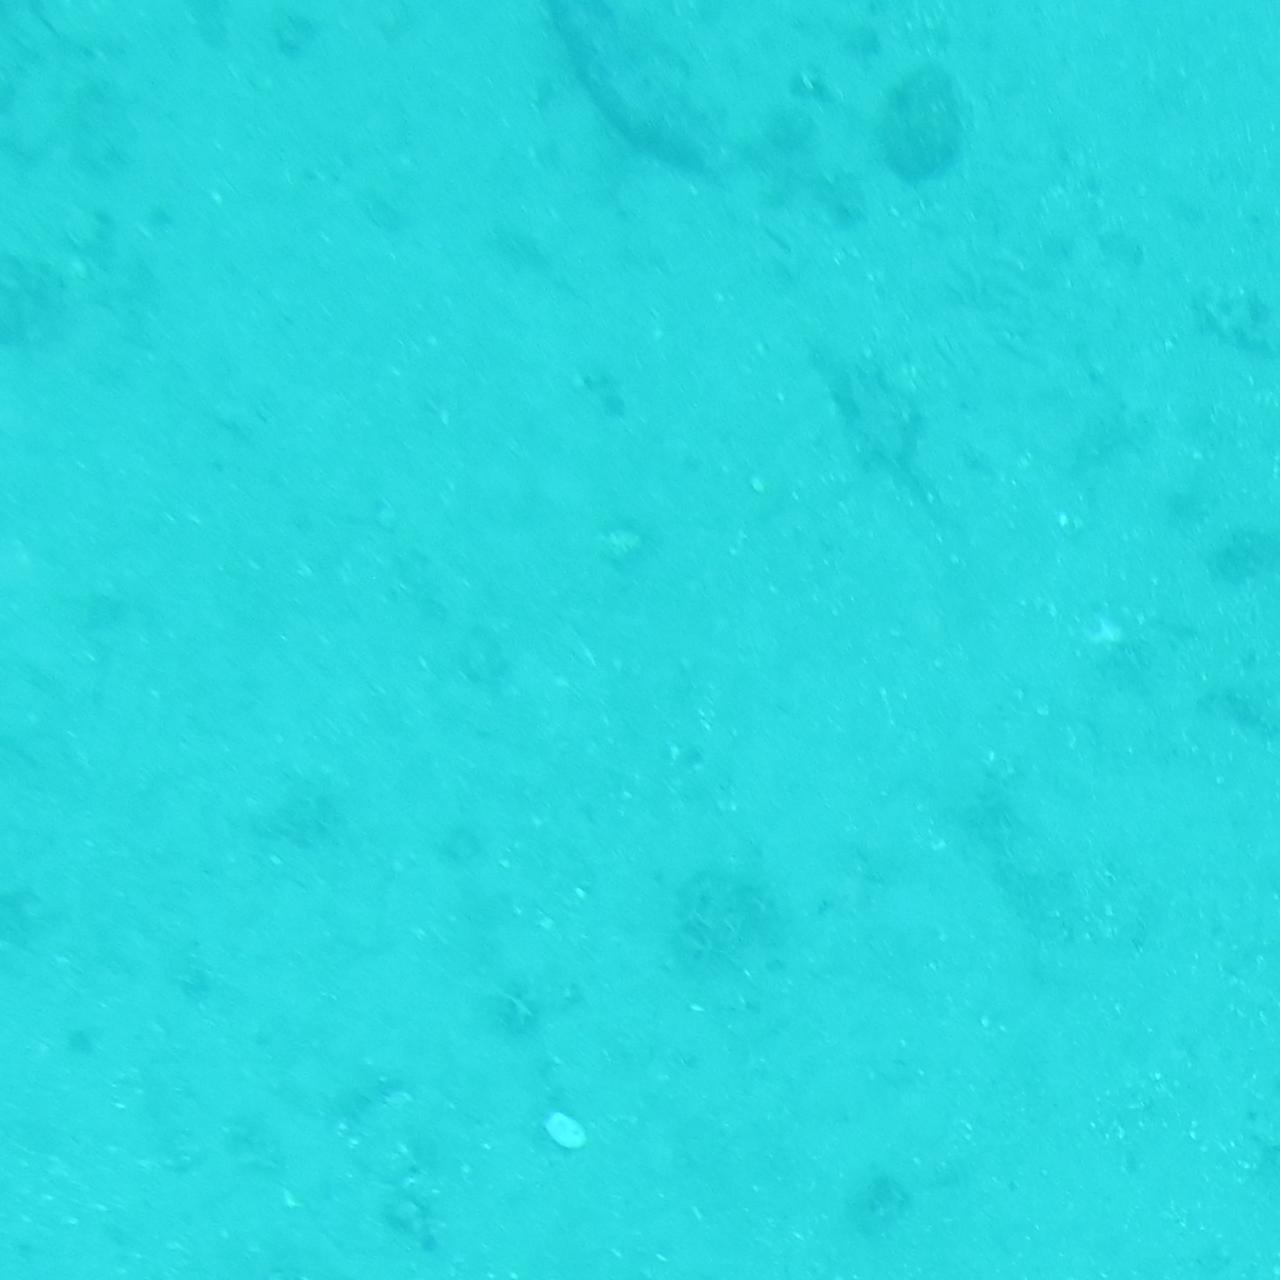Holothuria tubulosa: (531, 0, 749, 195)
